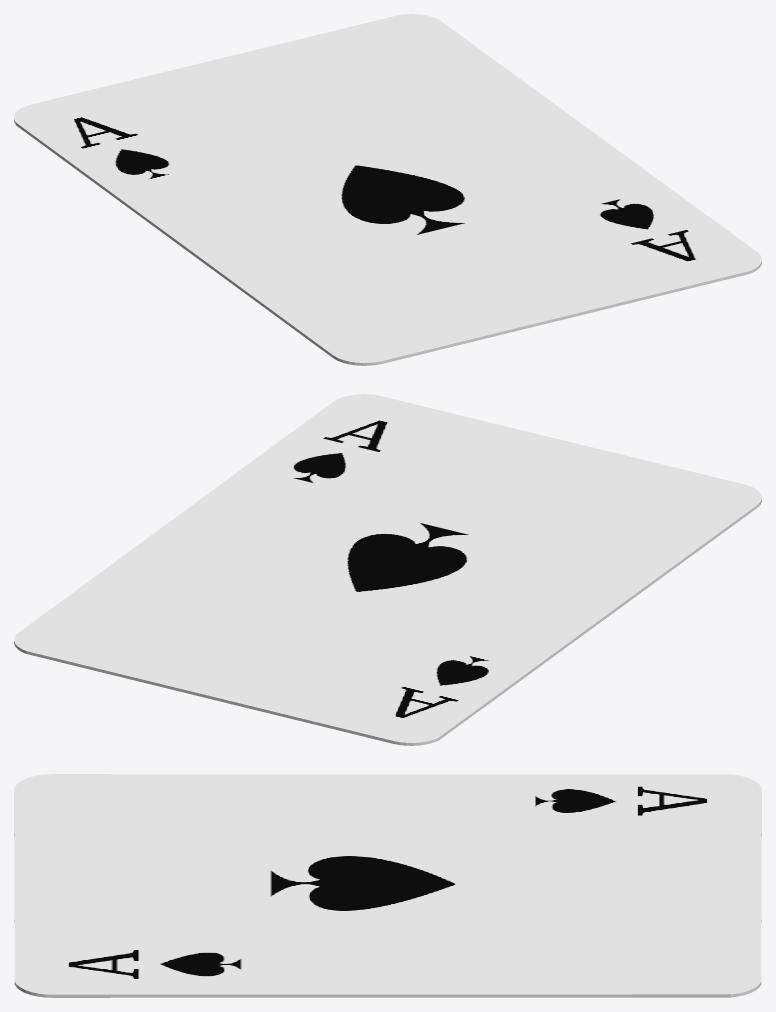
3 views of the same model, one above another, from view 1: azimuth 30°, elevation 25°; view 2: azimuth 150°, elevation 25°; view 3: azimuth 270°, elevation 25° (orthographic). The views are drawn at different scales.
Parts seen in each view (by area): view 1: PlayingCard; view 2: PlayingCard; view 3: PlayingCard.
Boxes of the visible parts, <box> form: PlayingCard: <box>14,14,761,365</box>; PlayingCard: <box>14,394,761,745</box>; PlayingCard: <box>14,774,761,997</box>.
Bounding box in the file's own units: 2.02 × 0.0132 × 2.89.
Materials: 1 (1 with a texture image).
